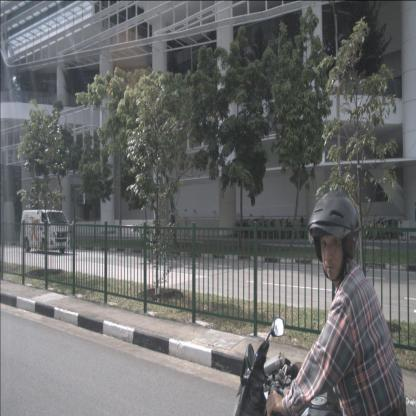vehicle-car: (20, 210, 69, 255)
vehicle-motorcycle: (233, 191, 416, 415)
